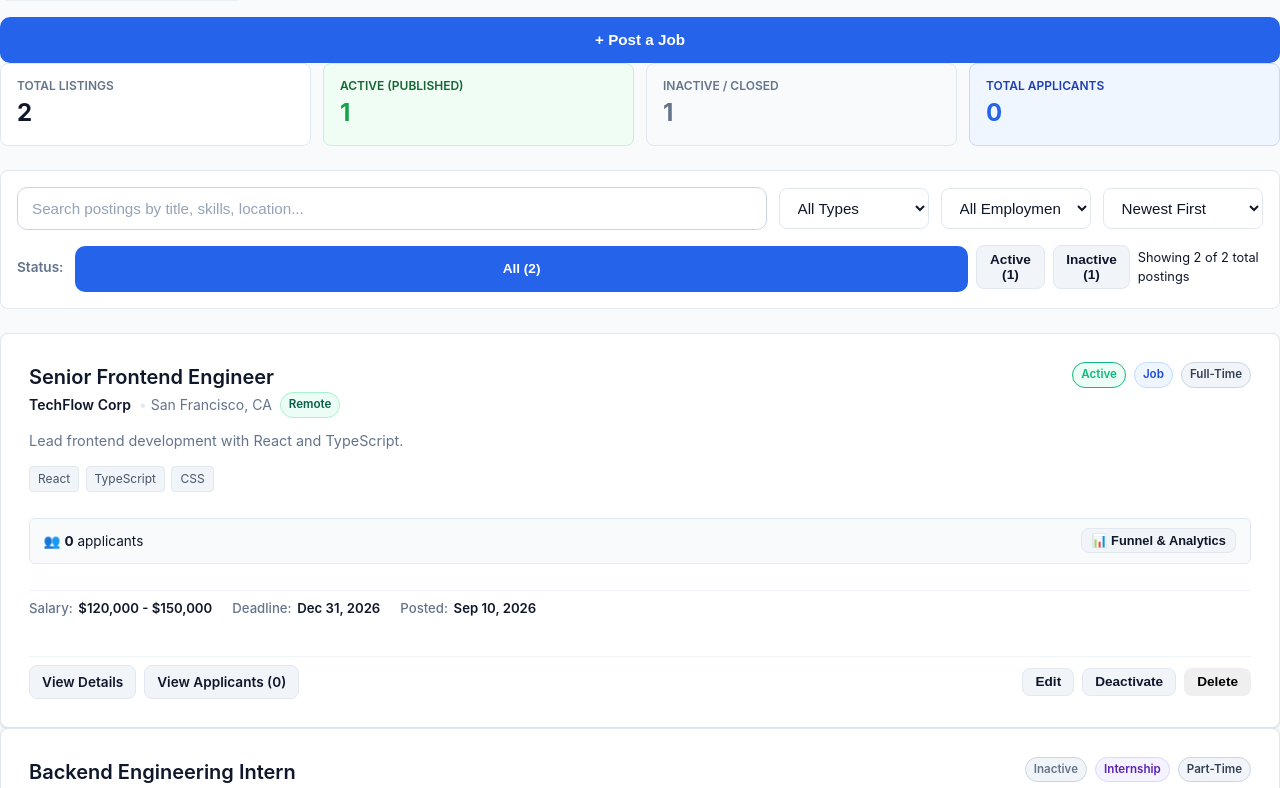
Test case: RecruiterJobsPage Component › filters postings by Active and Inactive status tabs
// Filter to Active only
Click the tab with test id "filter-tab-active": (1010, 267) [976,245,1045,289]
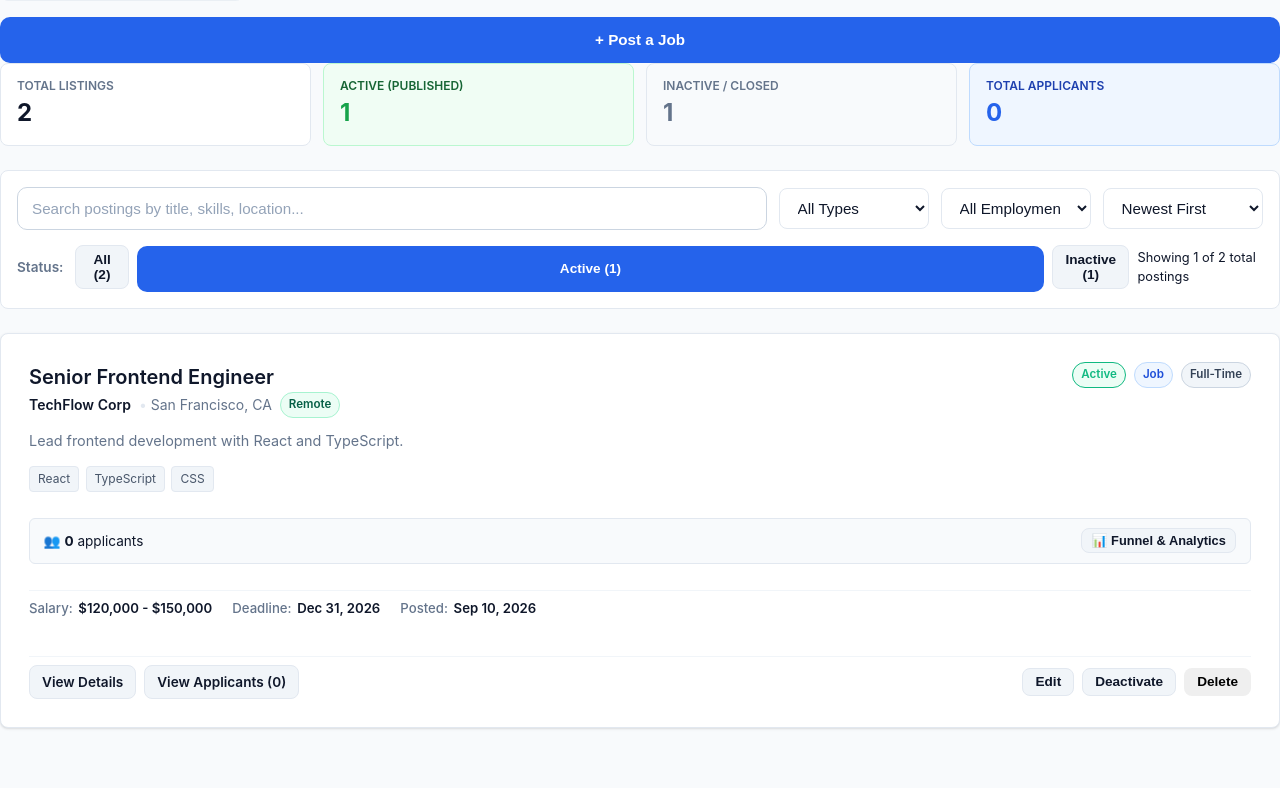
Expected: the element with test id "recruiter-job-card-101" is shown, [0,333,1279,728]
// Filter to Inactive only
Click the tab with test id "filter-tab-inactive": (1091, 267) [1052,245,1129,289]
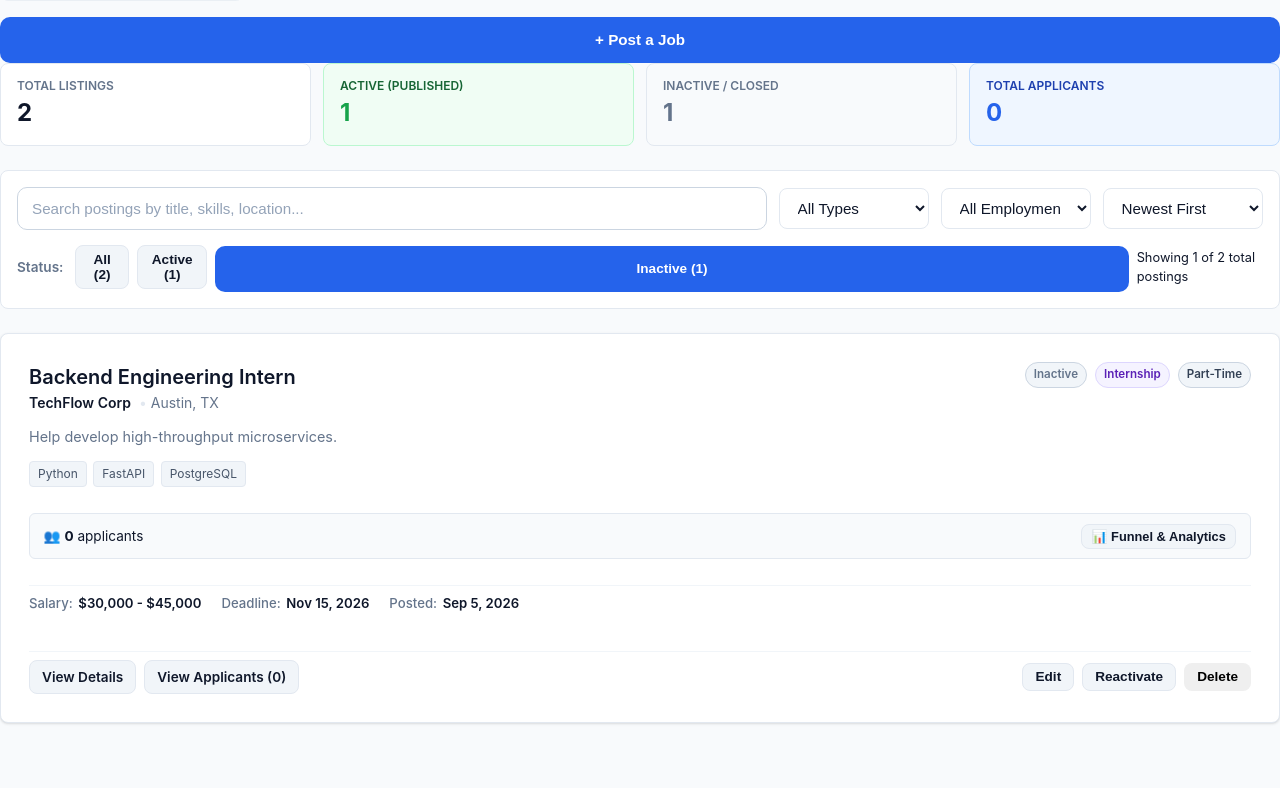
Expected: the element with test id "recruiter-job-card-101" is gone
Expected: the element with test id "recruiter-job-card-102" is shown, [0,333,1279,723]
// Reset to All
Click the tab with test id "filter-tab-all": (102, 267) [75,245,129,289]
(page scrolled)
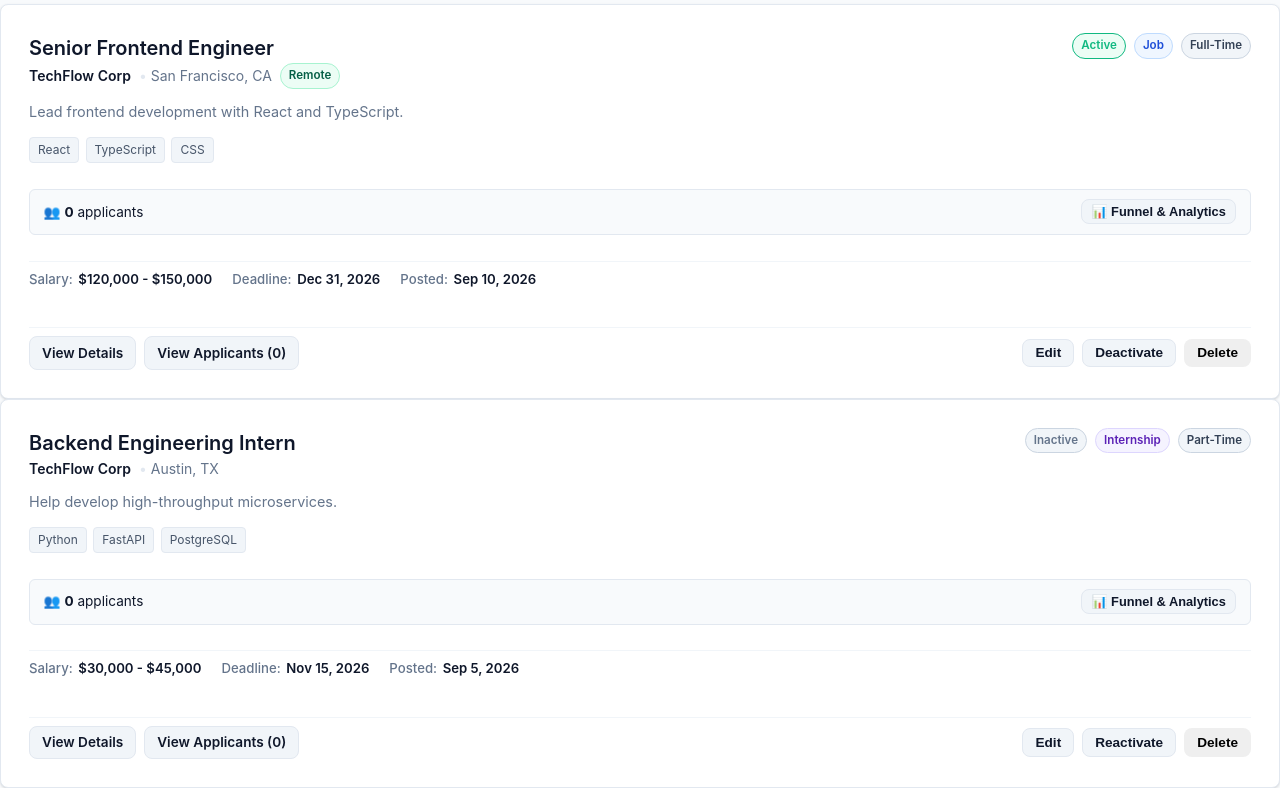
Expected: the element with test id "recruiter-job-card-102" is shown, [0,398,1279,787]
Expected: the element with test id "recruiter-job-card-101" is shown, [0,4,1279,398]
